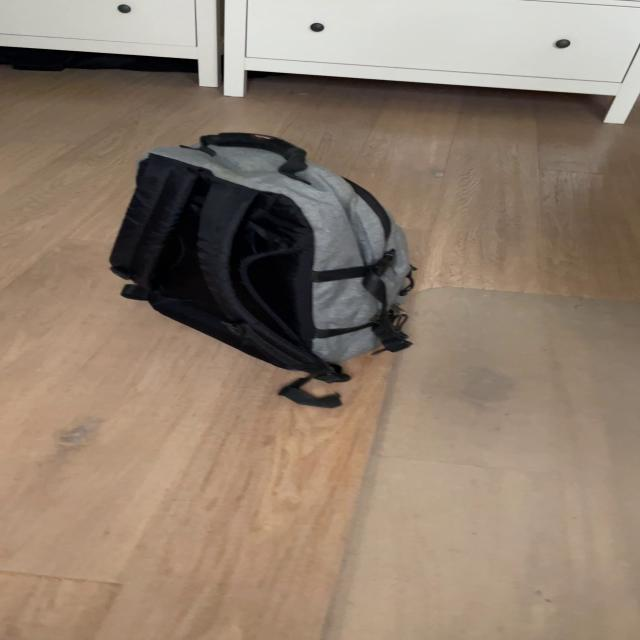backpack: (95, 115, 425, 383)
